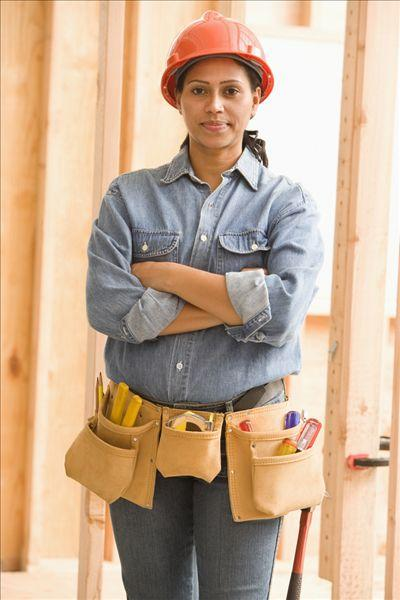helmet: (160, 11, 273, 102)
